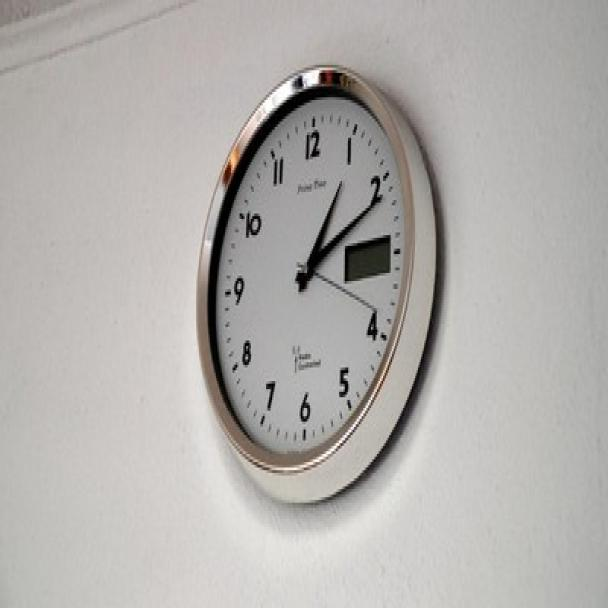Jam: (198, 63, 436, 495)
